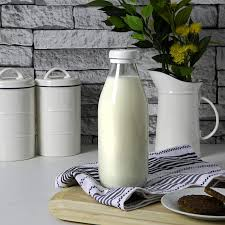milk: (97, 42, 153, 188)
